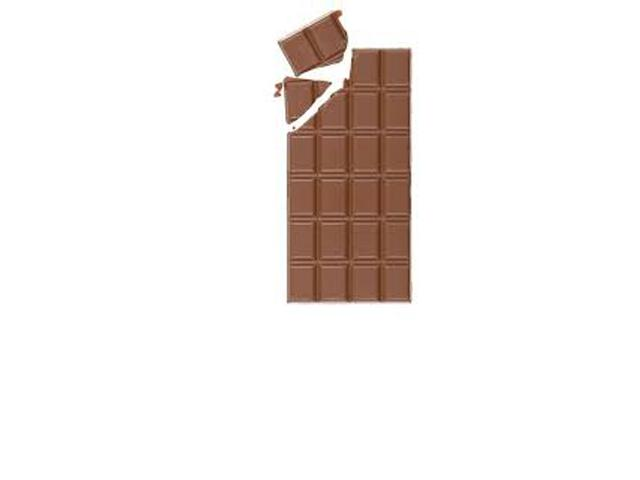chocolate: (245, 7, 431, 306)
